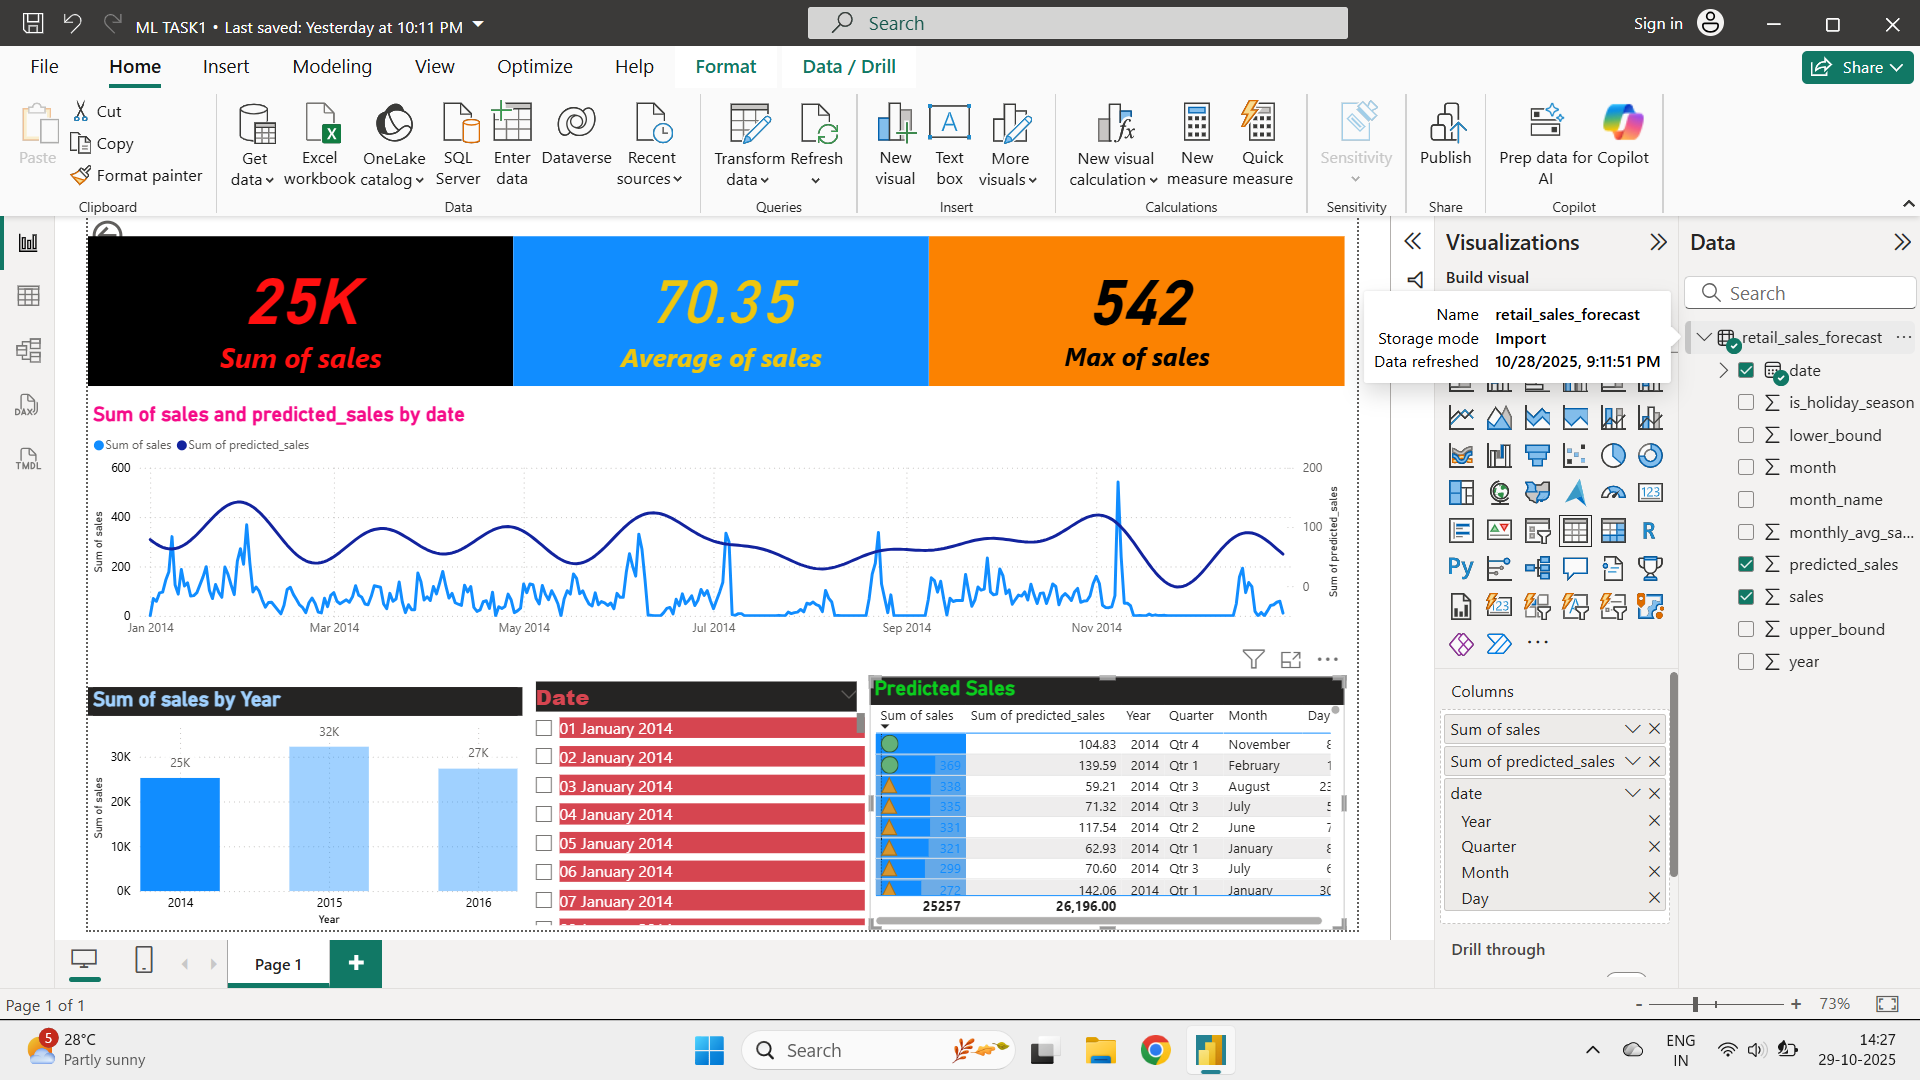

What the dashboard file says about the page in this screenshot:
{"tool":"powerbi","page":{"name":"Page 1","canvas":[1280,720],"ordinal":0},"visuals":[{"type":"lineChart","title":"Sum of sales and predicted_sales by date","fields":{"Category":["retail_sales_forecast.date"],"Y":["Sum(retail_sales_forecast.sales)"],"Y2":["Sum(retail_sales_forecast.predicted_sales)"]},"box":[0,188,1268.2,254.7],"z":0},{"type":"lineClusteredColumnComboChart","fields":{"Category":["retail_sales_forecast.date.Variation.Date Hierarchy.Year","retail_sales_forecast.date.Variation.Date Hierarchy.Month"],"Y":["Sum(retail_sales_forecast.sales)"]},"box":[0,475.4,438.6,245.2],"z":1000},{"type":"slicer","fields":{"Values":["retail_sales_forecast.date"]},"box":[438.6,464.5,350.1,256.1],"z":2000},{"type":"tableEx","title":"Predicted Sales","fields":{"Values":["Sum(retail_sales_forecast.sales)","Sum(retail_sales_forecast.predicted_sales)","retail_sales_forecast.date.Variation.Date Hierarchy.Year","retail_sales_forecast.date.Variation.Date Hierarchy.Quarter","retail_sales_forecast.date.Variation.Date Hierarchy.Month","retail_sales_forecast.date.Variation.Date Hierarchy.Day"]},"box":[788.7,464.5,479.5,256.1],"z":3000},{"type":"actionButton","box":[0,0,100,40],"z":4000},{"type":"card","fields":{"Values":["Sum(retail_sales_forecast.sales)"]},"box":[0,20.4,429.1,151.2],"z":6000},{"type":"card","fields":{"Values":["Avg(retail_sales_forecast.sales)"]},"box":[429.1,20.4,419.5,151.2],"z":7000},{"type":"card","fields":{"Values":["Max(retail_sales_forecast.sales)"]},"box":[848.6,20.4,419.5,151.2],"z":8000}]}

Visuals, with their boxes on the page's 1280x720 design canvas (x1, y1, x2, y2). These are canvas units, not pixel positions in the 1920x1080 screenshot, which may show the page scaled, cropped or inside an application window:
"Sum of sales and predicted_sales by date" lineChart: [left=0, top=188, right=1268, bottom=443]
lineClusteredColumnComboChart - retail_sales_forecast.date.Variation.Date Hierarchy.Year x retail_sales_forecast.date.Variation.Date Hierarchy.Month: [left=0, top=475, right=439, bottom=721]
slicer - retail_sales_forecast.date: [left=439, top=464, right=789, bottom=721]
"Predicted Sales" tableEx: [left=789, top=464, right=1268, bottom=721]
actionButton: [left=0, top=0, right=100, bottom=40]
card - Sum(retail_sales_forecast.sales): [left=0, top=20, right=429, bottom=172]
card - Avg(retail_sales_forecast.sales): [left=429, top=20, right=849, bottom=172]
card - Max(retail_sales_forecast.sales): [left=849, top=20, right=1268, bottom=172]
